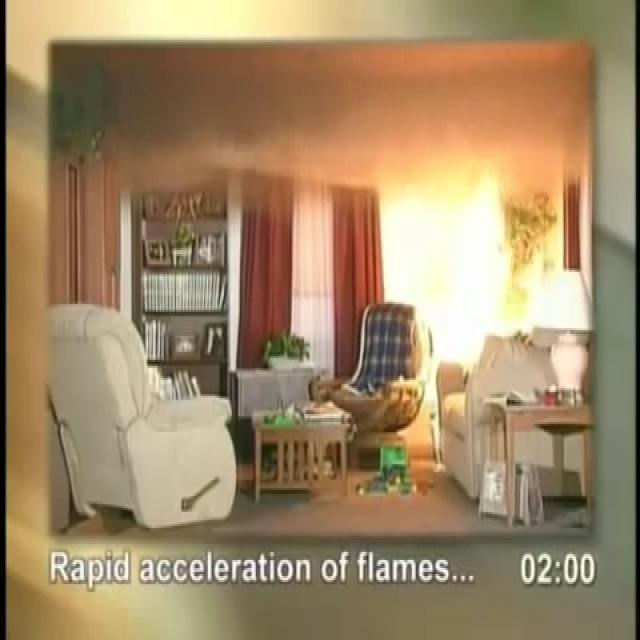Fire: (342, 135, 568, 510)
